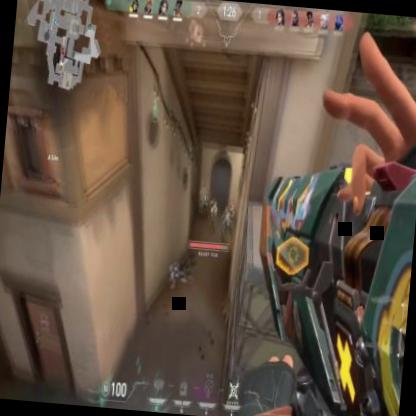enemy: (219, 204, 230, 247), (207, 198, 218, 234), (199, 186, 209, 214)
enemy_head: (202, 184, 206, 192), (224, 206, 228, 214), (212, 199, 216, 206)
